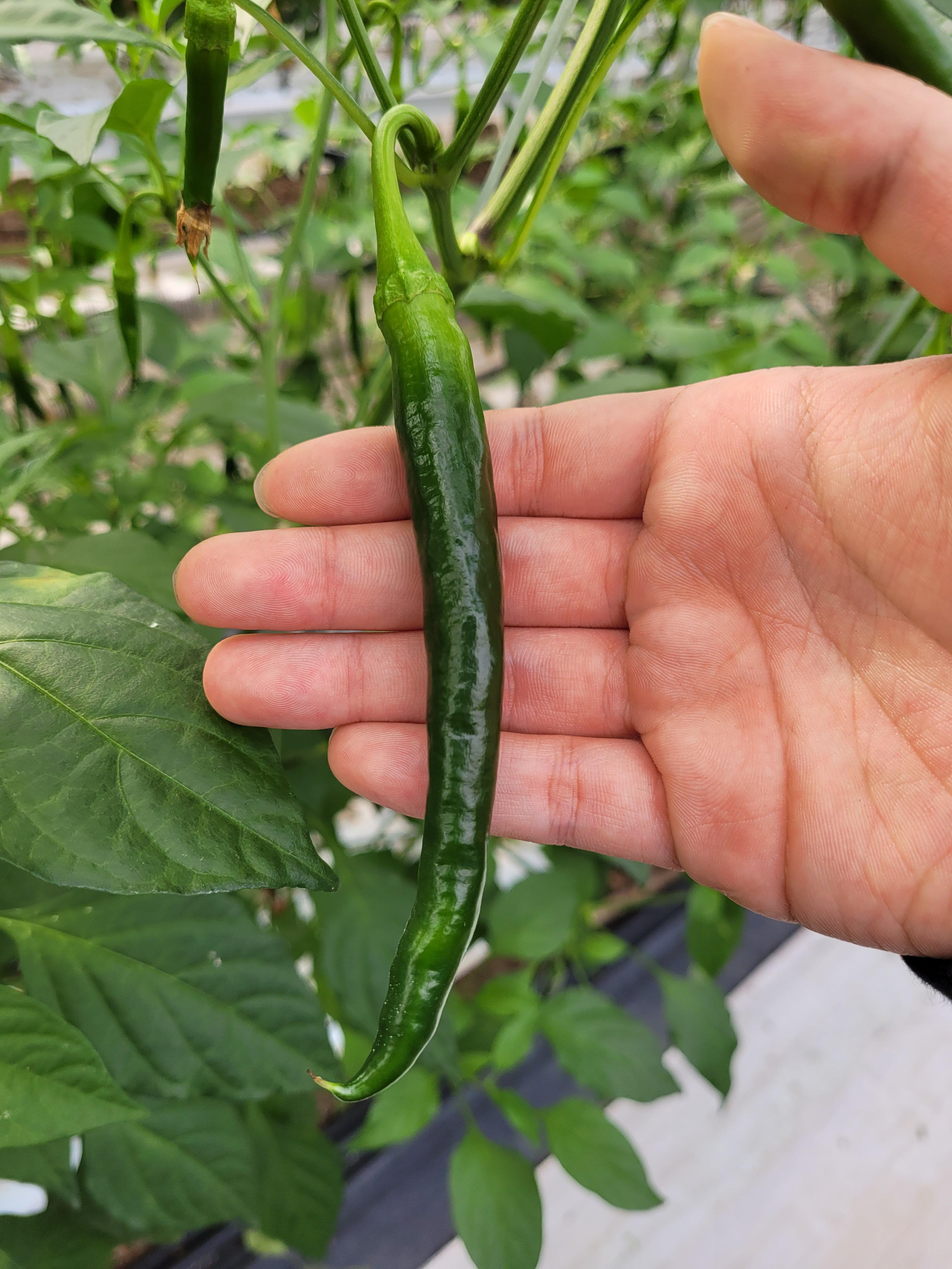Buah Cabai Sehat: (309, 249, 509, 1107)
Daun Cabai Sehat: (0, 546, 339, 904)
